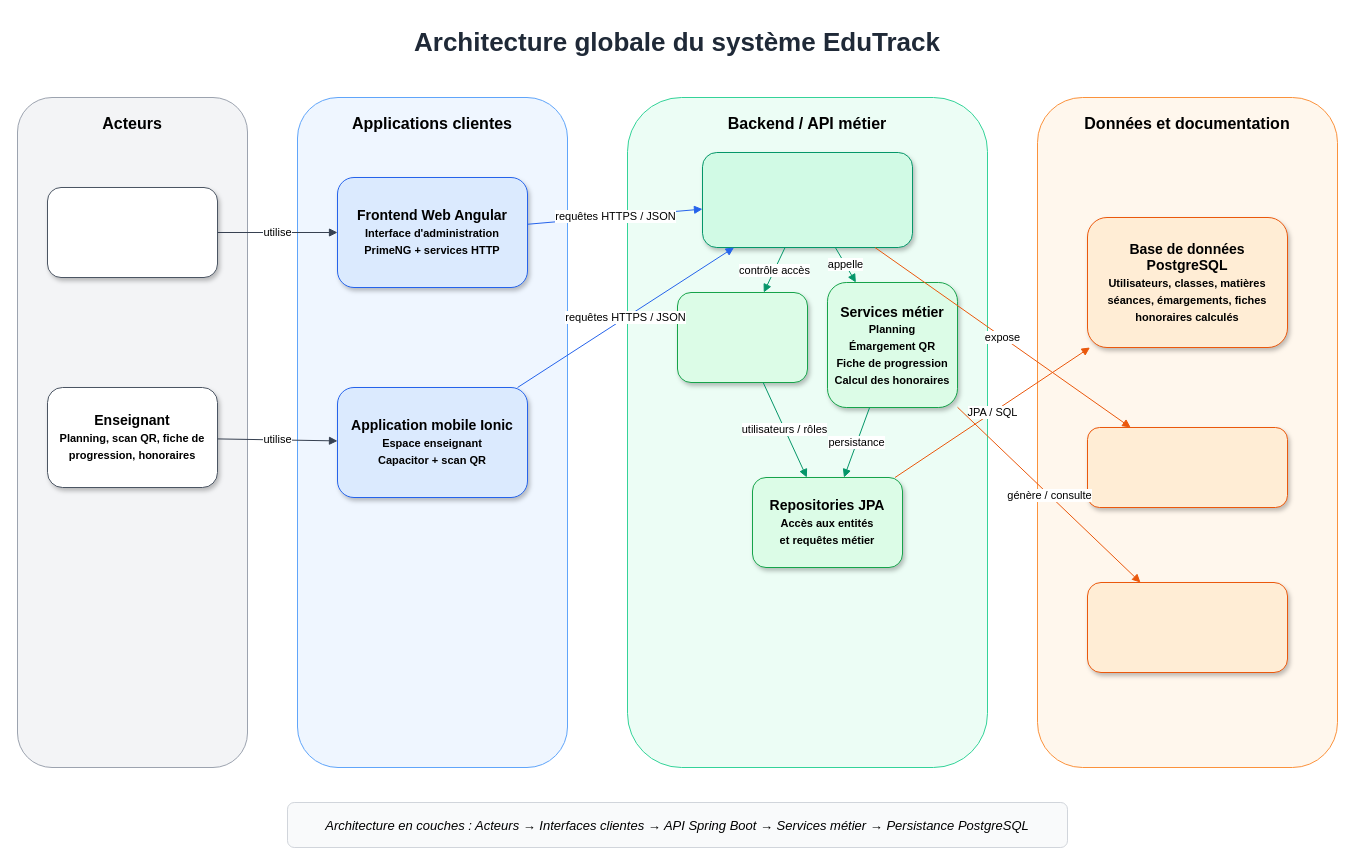
This 1355x865 diagram has some shape labels left out. Each missing label, with the centre of its shape:
"Administrateur Gestion académique, planning, QR Code, honoraires" goes at pixel 133 233.
"API REST Spring Boot Contrôleurs REST DTO / validation / Swagger" goes at pixel 808 201.
"Documentation API Swagger / OpenAPI" goes at pixel 1188 468.
"Sécurité JWT Authentification Autorisation par rôles" goes at pixel 743 339.
"États et exports Consultation des honoraires et données de suivi" goes at pixel 1188 629.
